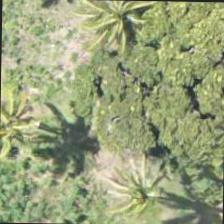Kelapa_Sawit: (93, 142, 185, 223), (80, 0, 172, 54), (0, 72, 50, 164)
